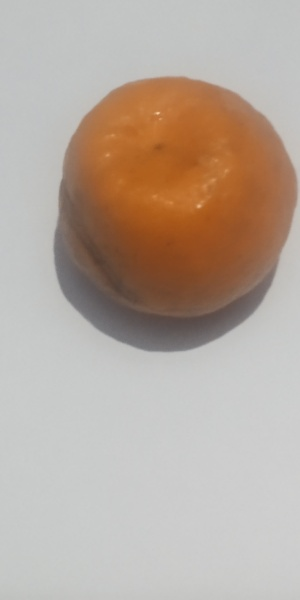BAD: (57, 70, 300, 319)
